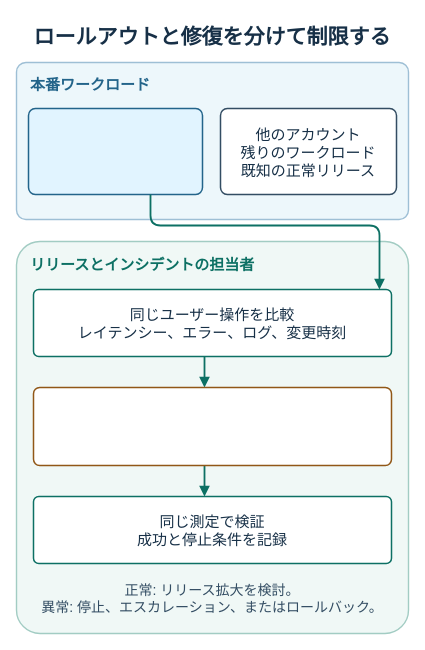
Some shapes in this 425 by 650 pixel diagram are drawn without their labels. Each missing label, with the centre of its shape:
アカウント A カナリアワークロード 新しいリリース: (x=115, y=151)
失敗したワークロードだけを修復 前提条件を確認し、スコープを限定した IAM ロールを使う: (x=212, y=426)
